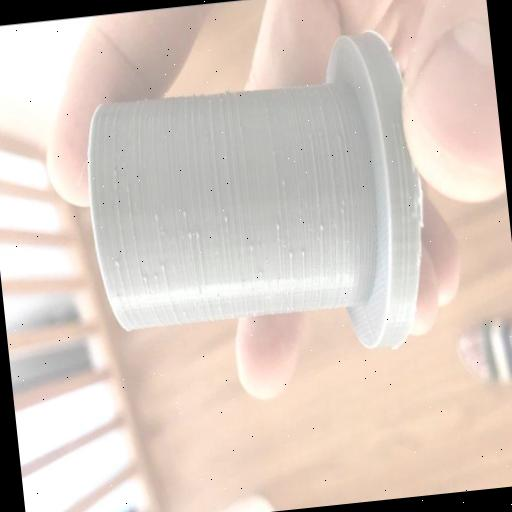blobs: (111, 254, 122, 270), (156, 258, 167, 273), (140, 270, 150, 284), (274, 222, 284, 236), (298, 247, 308, 261), (317, 221, 328, 233), (186, 226, 195, 240), (151, 271, 162, 282), (112, 166, 120, 181), (256, 264, 264, 279), (180, 205, 188, 219), (340, 197, 348, 211), (221, 212, 230, 224), (151, 210, 161, 220), (248, 242, 256, 254), (288, 249, 296, 261), (195, 228, 202, 240)
